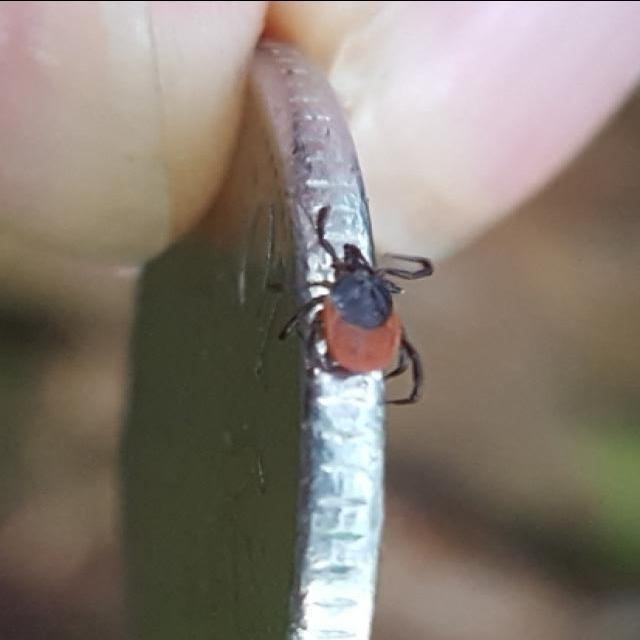Ixodes Ricinus-F: (280, 205, 434, 403)
